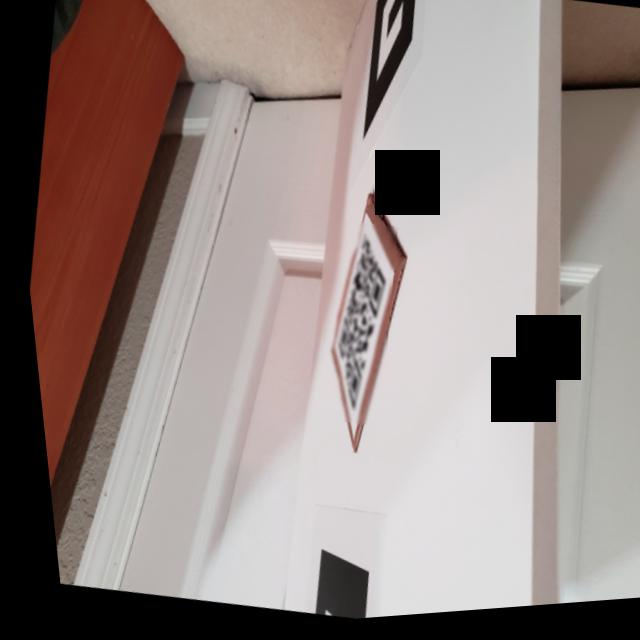QR_CODE: (289, 221, 409, 435)
